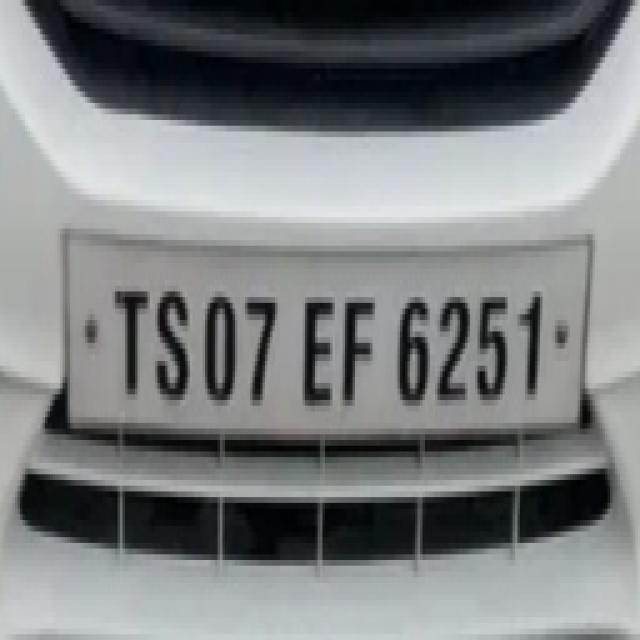0: (199, 282, 239, 417)
1: (512, 273, 546, 415)
5: (476, 278, 513, 414)
6: (394, 277, 434, 418)
7: (242, 286, 280, 409)
E: (300, 283, 337, 420)
F: (339, 284, 377, 414)
S: (152, 273, 195, 411)
T: (112, 278, 153, 406)
